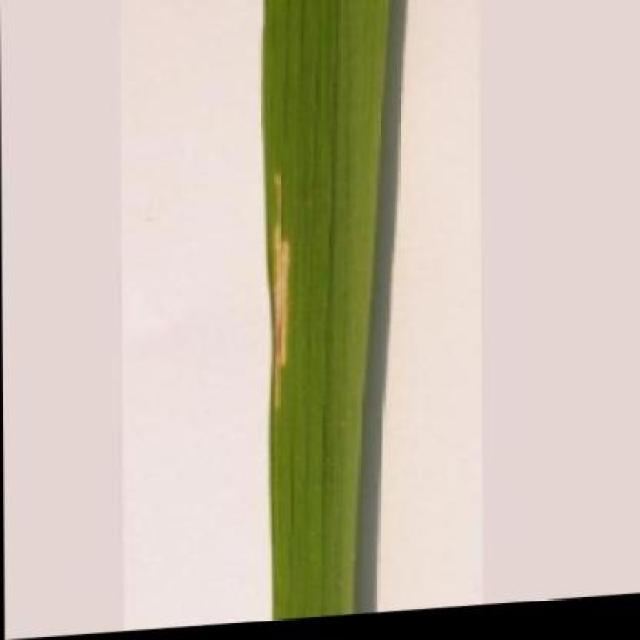Brown_Spot: (256, 0, 402, 625)
